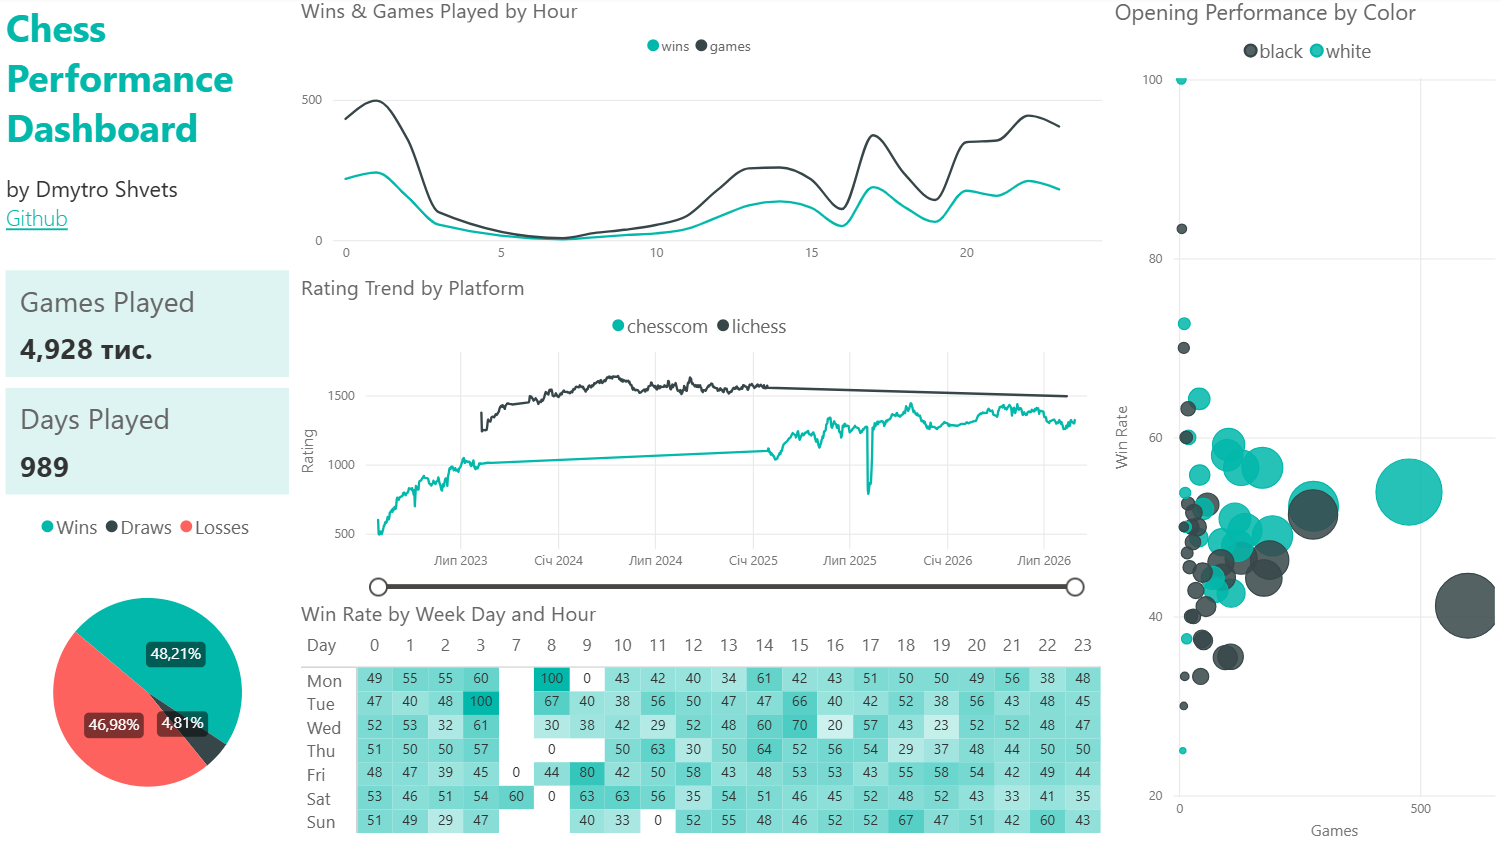

The page's visual inventory and layout, read from the dashboard file:
{"tool":"powerbi","page":{"name":"Page 1","canvas":[1280,720],"ordinal":0},"visuals":[{"type":"scatterChart","title":"Opening Performance by Color","fields":{"Category":["mart_opening_performance.opening_name"],"Series":["mart_opening_performance.my_color"],"Size":["Sum(mart_opening_performance.wins)"],"X":["Sum(mart_opening_performance.games_played)"],"Y":["Sum(mart_opening_performance.winrate_pct)"]},"box":[938.8,0,341.2,720],"z":0},{"type":"lineChart","title":"Rating Trend by Platform","fields":{"Category":["Calendar.Date"],"Series":["fct_games.platform"],"Y":["Avg(fct_games.my_rating)"]},"box":[250,235,688.8,276.2],"z":1000},{"type":"pivotTable","title":"Win Rate by Week Day and Hour","fields":{"Columns":["mart_time_of_day_performance.hour_of_day"],"Rows":["week_days.day_of_week_name"],"Values":["Sum(mart_time_of_day_performance.winrate_pct)"]},"box":[250,511.2,688.8,208.8],"z":2000},{"type":"areaChart","title":"Wins & Games Played by Hour","fields":{"Category":["mart_time_of_day_performance.hour_of_day"],"Y":["Sum(mart_time_of_day_performance.wins)","Sum(mart_time_of_day_performance.games_played)"]},"box":[250,0,688.8,235],"z":3000},{"type":"cardVisual","fields":{"Data":["CountNonNull(fct_games.game_id)"]},"box":[0,227.5,250,100],"z":4000},{"type":"cardVisual","fields":{"Data":["Count(fct_games.played_date)"]},"box":[0,327.5,250,100],"z":5000},{"type":"pieChart","fields":{"Y":["Sum(mart_opening_performance.wins)","Sum(mart_opening_performance.draws)","Sum(mart_opening_performance.losses)"]},"box":[0,427.5,250,292.5],"z":6000},{"type":"textbox","box":[0,0,250,227.5],"z":7000}]}

Visuals, with their boxes in screenshot pixels (x1, y1, x2, y2), scaled from the page's 1280x720 canvas onto the 1501x847 screenshot:
"Opening Performance by Color" scatterChart: detection(1101, 0, 1500, 846)
"Rating Trend by Platform" lineChart: detection(293, 276, 1101, 601)
"Win Rate by Week Day and Hour" pivotTable: detection(293, 601, 1101, 846)
"Wins & Games Played by Hour" areaChart: detection(293, 0, 1101, 276)
cardVisual - CountNonNull(fct_games.game_id): detection(0, 268, 293, 385)
cardVisual - Count(fct_games.played_date): detection(0, 385, 293, 503)
pieChart - Sum(mart_opening_performance.wins) x Sum(mart_opening_performance.draws): detection(0, 503, 293, 846)
textbox: detection(0, 0, 293, 268)
